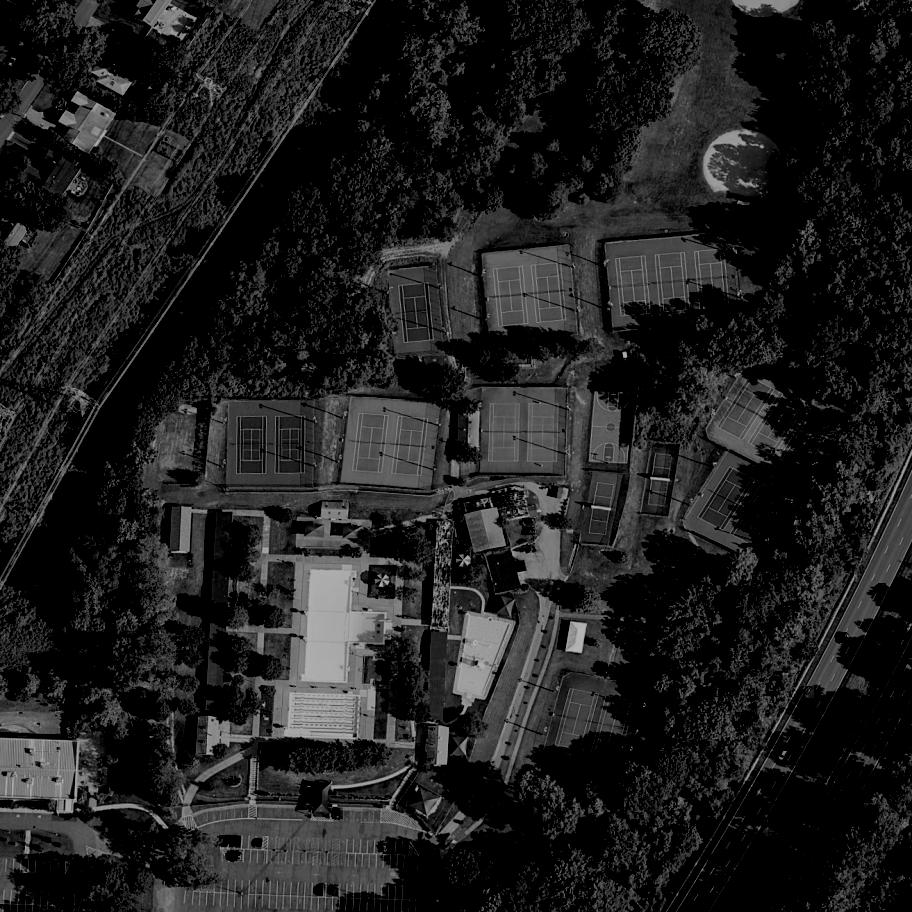small-vehicle: (823, 807, 837, 824), (803, 686, 815, 700), (800, 708, 812, 722), (522, 518, 536, 529), (219, 835, 229, 850), (332, 807, 343, 820), (778, 751, 789, 764), (7, 57, 17, 71), (55, 892, 64, 906), (32, 143, 43, 154), (708, 854, 718, 866), (382, 841, 390, 854), (403, 841, 410, 855), (839, 632, 847, 644), (409, 887, 417, 899), (411, 855, 419, 867), (57, 98, 65, 109), (255, 838, 263, 849), (879, 583, 886, 594), (522, 530, 534, 535), (333, 885, 338, 896), (237, 851, 242, 861), (320, 885, 324, 897), (236, 837, 239, 845)
